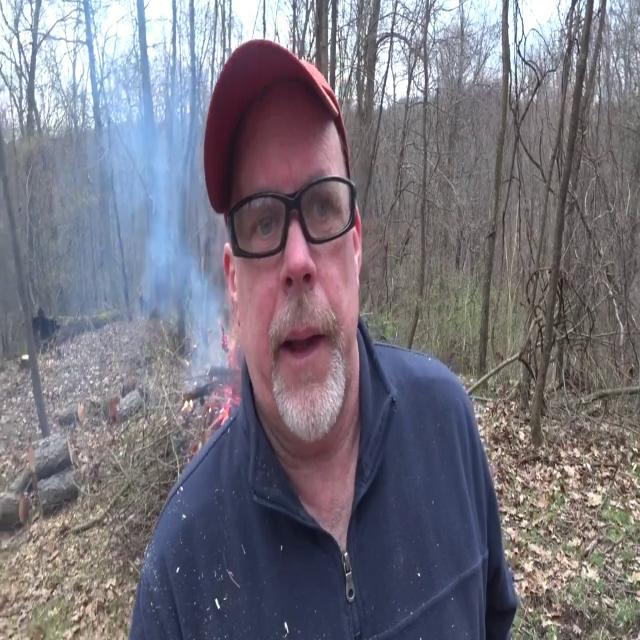Smoke: (66, 26, 222, 404), (107, 32, 225, 390)
